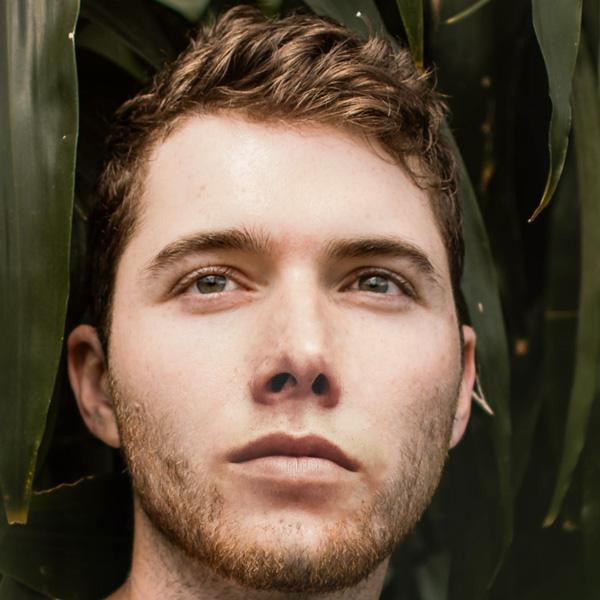Eyes: (158, 251, 265, 317), (323, 252, 428, 316)
